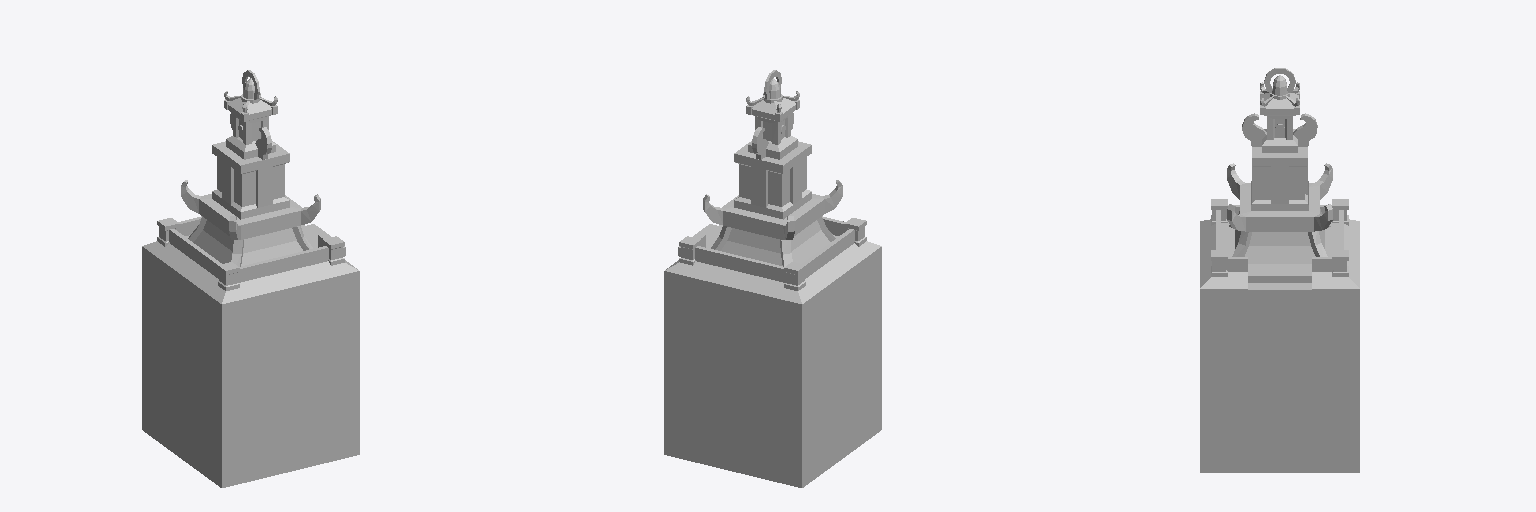
Rendered from TD_TempleCoreShrine.obj.
3 renders of one model, left to right at view 1: azimuth 30°, elevation 25°; view 2: azimuth 150°, elevation 25°; view 3: azimuth 270°, elevation 25°, orthographic.
Parts seen in each view (by area): view 1: shrine; view 2: shrine; view 3: shrine, TD_TempleGateHalf:polySurface37 TD_TempleGateHalf:polySurface38 .
Part boxes in pixels (x1,y1,x2,y2): shrine: (142,70,359,487); shrine: (664,70,881,487); shrine: (1200,68,1359,472); TD_TempleGateHalf:polySurface37 TD_TempleGateHalf:polySurface38 : (1242,113,1317,146).
Bounding box in the file's own units: 2.68 × 6.41 × 2.5.